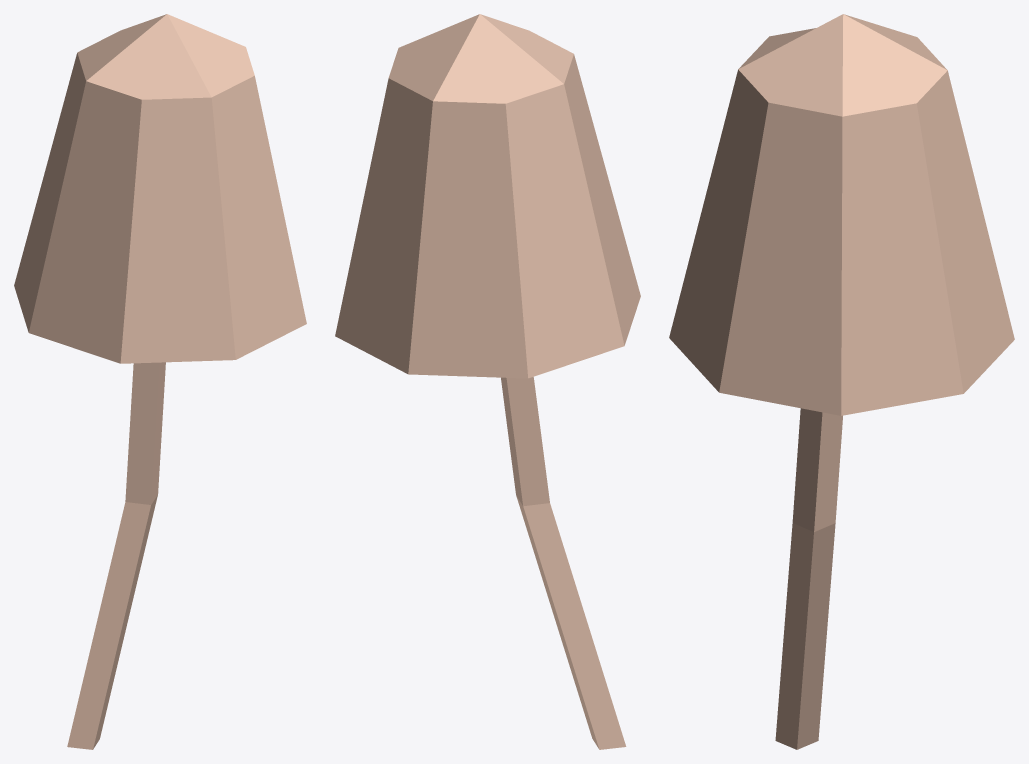
The model's file is Mushroom_b_01.fbx.
3 renders of one model, left to right at view 1: azimuth 30°, elevation 25°; view 2: azimuth 150°, elevation 25°; view 3: azimuth 270°, elevation 25°, orthographic. The views are drawn at different scales.
Parts seen in each view (by area): view 1: Mushroom_b_01; view 2: Mushroom_b_01; view 3: Mushroom_b_01.
Part boxes in pixels (<box>): Mushroom_b_01: <box>14,14,306,749</box>; Mushroom_b_01: <box>335,14,640,749</box>; Mushroom_b_01: <box>669,14,1014,749</box>.
Bounding box in the file's own units: 13.94 × 34.9 × 13.94.
